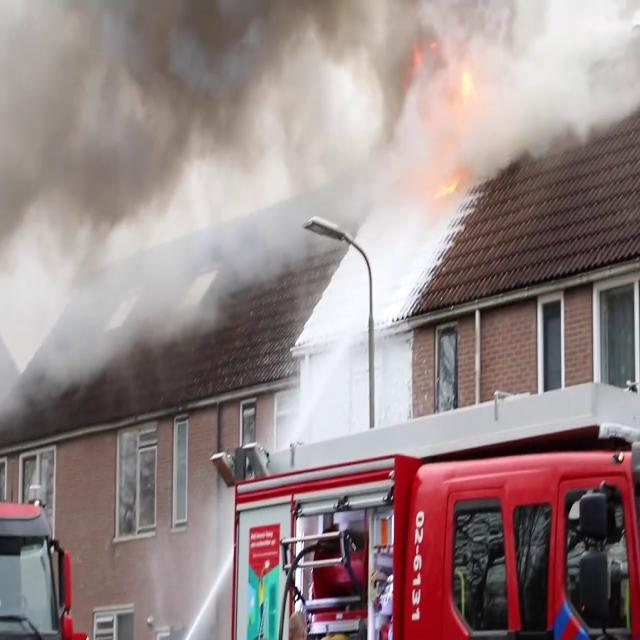Smoke: (2, 0, 604, 303)
